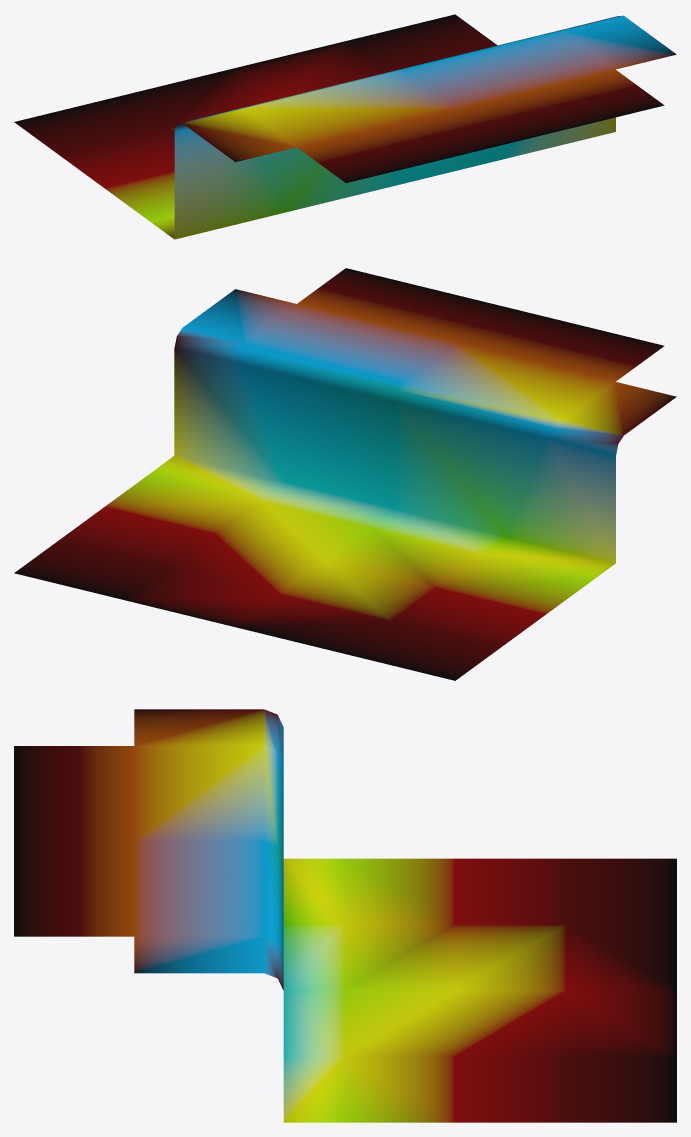
3 views of the same model, one above another, from view 1: azimuth 30°, elevation 25°; view 2: azimuth 150°, elevation 25°; view 3: azimuth 270°, elevation 25° (orthographic). The views are drawn at different scales.
Parts seen in each view (by area): view 1: G:\FFXIV-MapTools\exports\y6f1\bg\ex5\02_ykt_y6\fld\y6f1\bgp; view 2: G:\FFXIV-MapTools\exports\y6f1\bg\ex5\02_ykt_y6\fld\y6f1\bgp; view 3: G:\FFXIV-MapTools\exports\y6f1\bg\ex5\02_ykt_y6\fld\y6f1\bgp.
Part boxes in pixels (left/top/right/bottom): G:\FFXIV-MapTools\exports\y6f1\bg\ex5\02_ykt_y6\fld\y6f1\bgp: left=14, top=14, right=676, bottom=239; G:\FFXIV-MapTools\exports\y6f1\bg\ex5\02_ykt_y6\fld\y6f1\bgp: left=14, top=268, right=676, bottom=680; G:\FFXIV-MapTools\exports\y6f1\bg\ex5\02_ykt_y6\fld\y6f1\bgp: left=14, top=709, right=676, bottom=1122.
Size of the model in its own units: 5.05 by 1.33 by 5.36.
